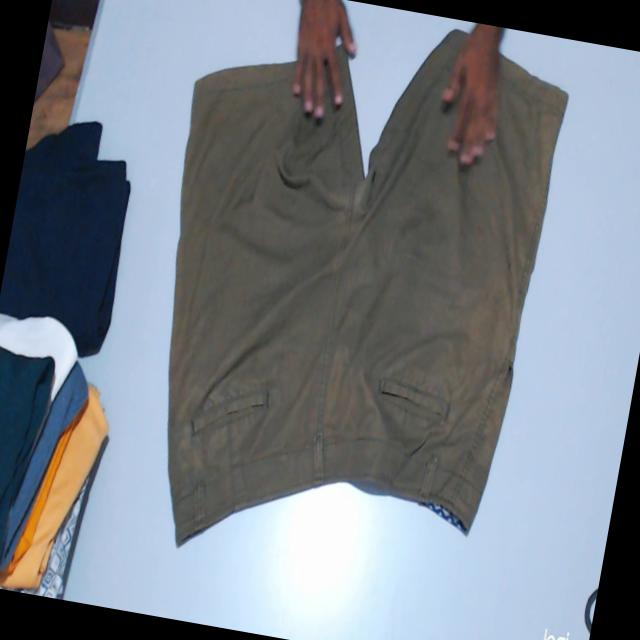new-garment: (167, 30, 567, 544)
